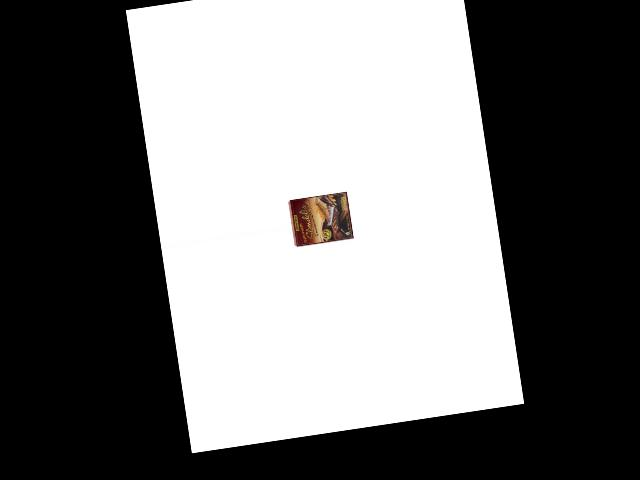chocolate: (287, 191, 354, 247)
